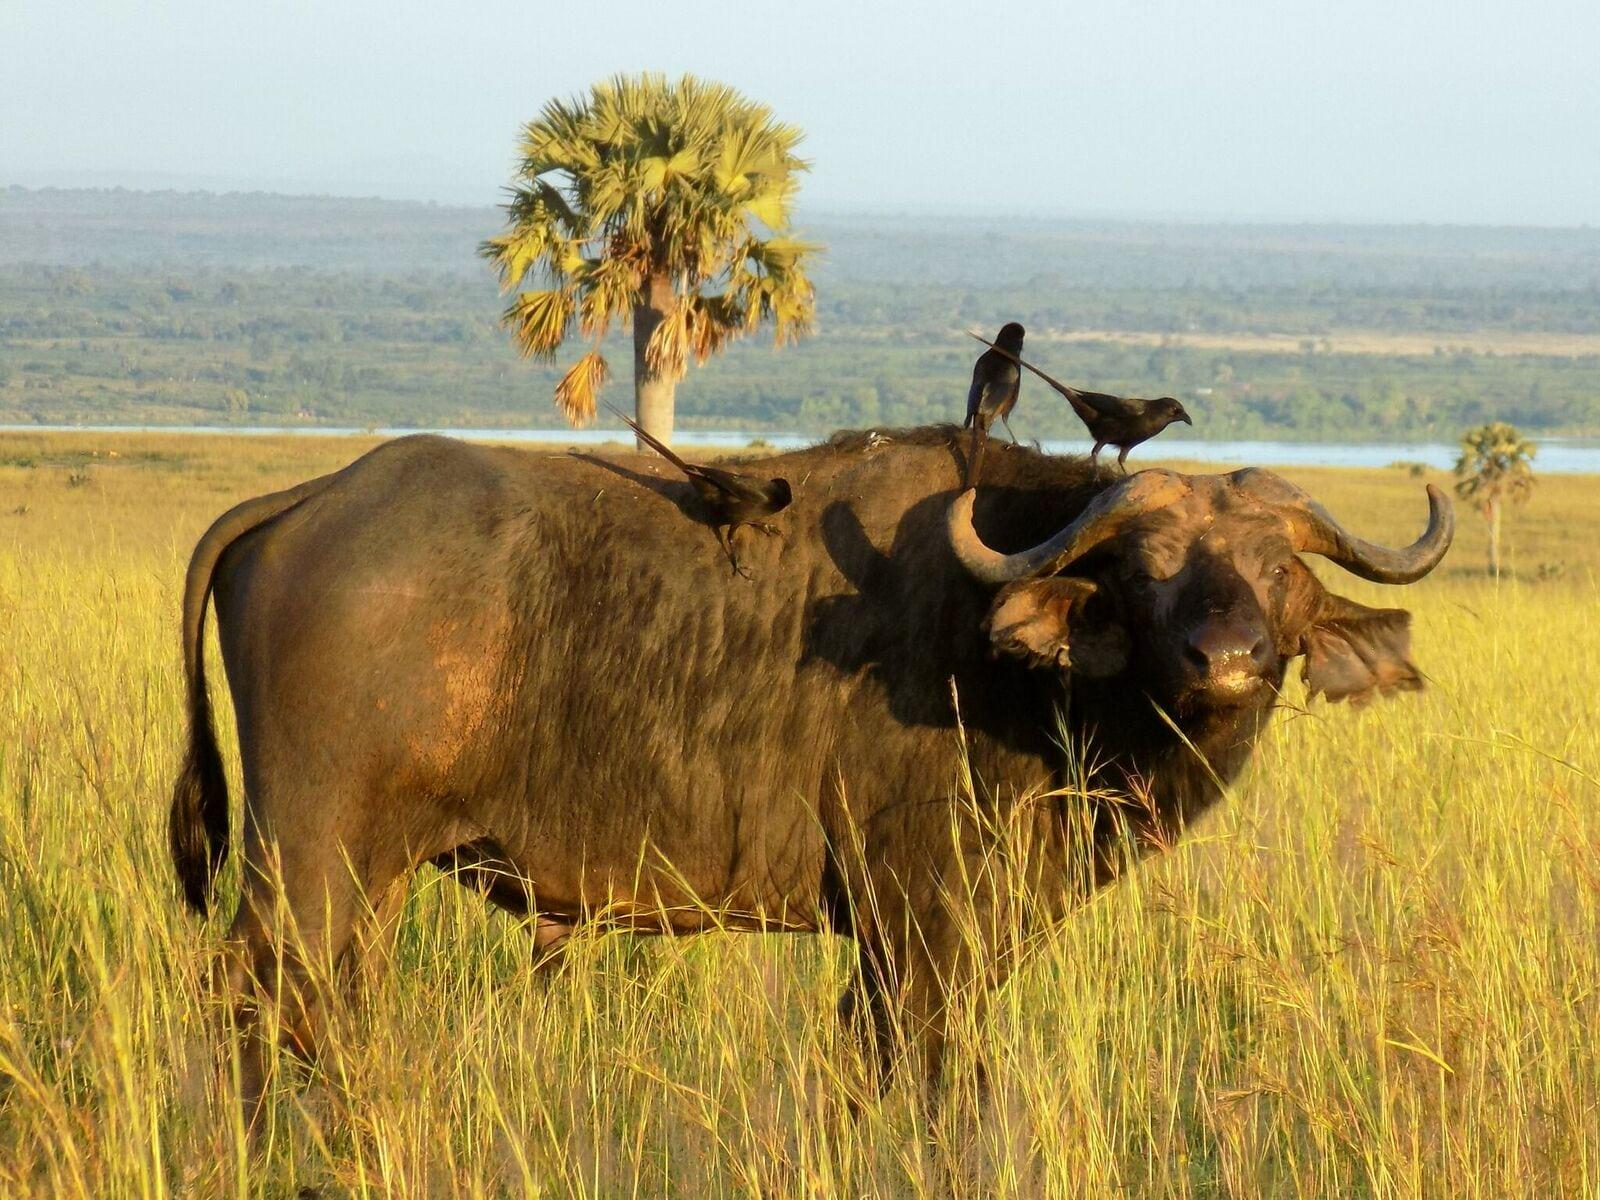Buffalo: (127, 431, 1429, 1093)
